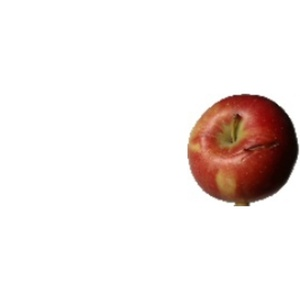maçã braeburn: (186, 90, 299, 207)
